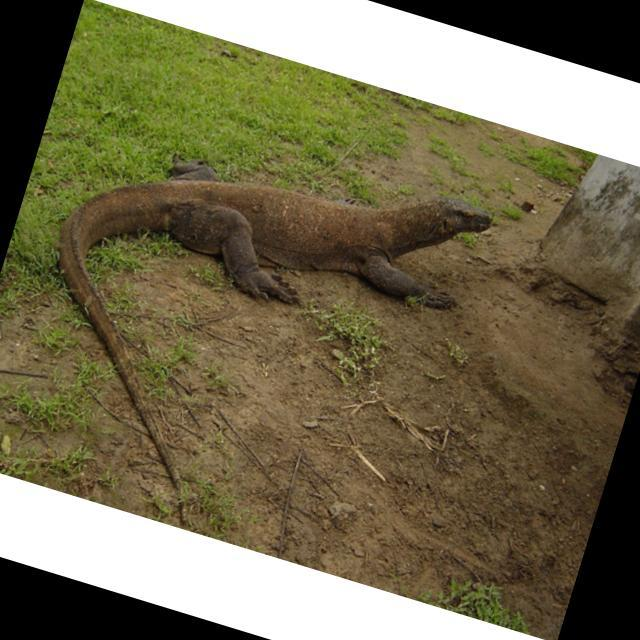KomodoDragon: (0, 85, 498, 584)
